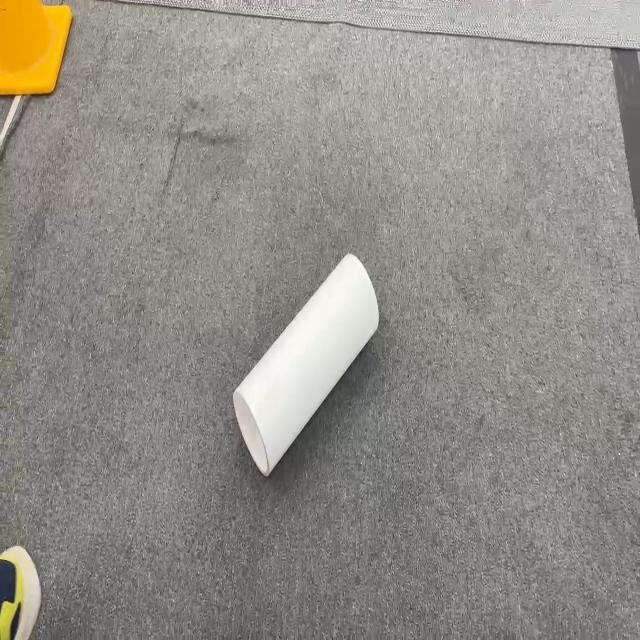coral: (232, 251, 380, 477)
